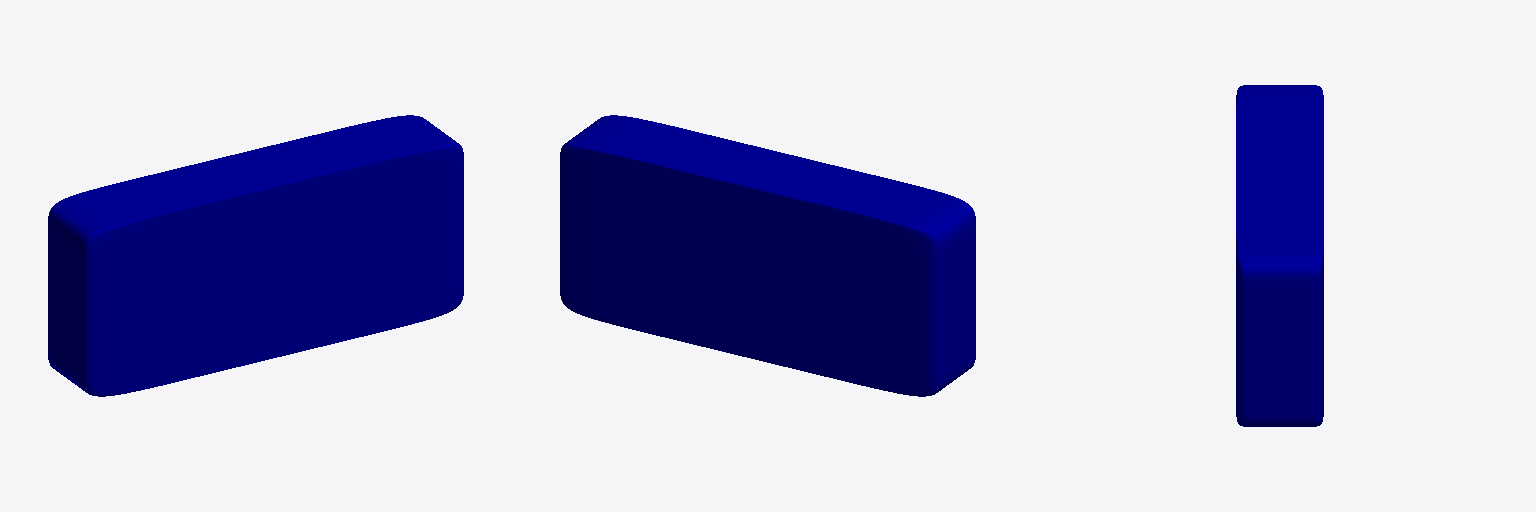
Rendered from raket_blue.obj.
3 renders of one model, left to right at view 1: azimuth 30°, elevation 25°; view 2: azimuth 150°, elevation 25°; view 3: azimuth 270°, elevation 25°, orthographic.
Parts seen in each view (by area): view 1: Cube; view 2: Cube; view 3: Cube.
Part boxes in pixels (bbox=[...]): Cube: bbox=[48, 115, 463, 396]; Cube: bbox=[560, 115, 975, 396]; Cube: bbox=[1236, 85, 1323, 426].
Size of the model in its own units: 1.75 by 0.75 by 0.35.